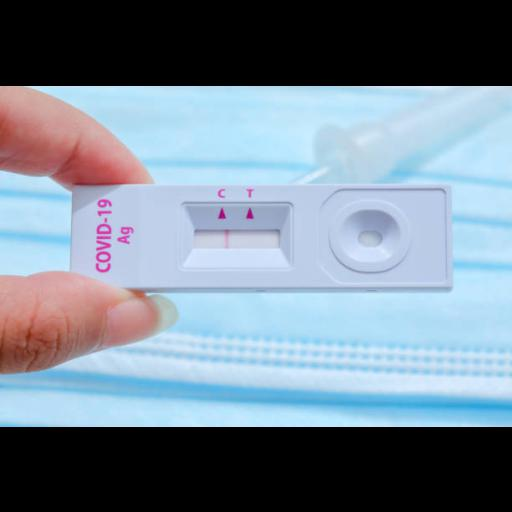Neg: (73, 184, 449, 288)
